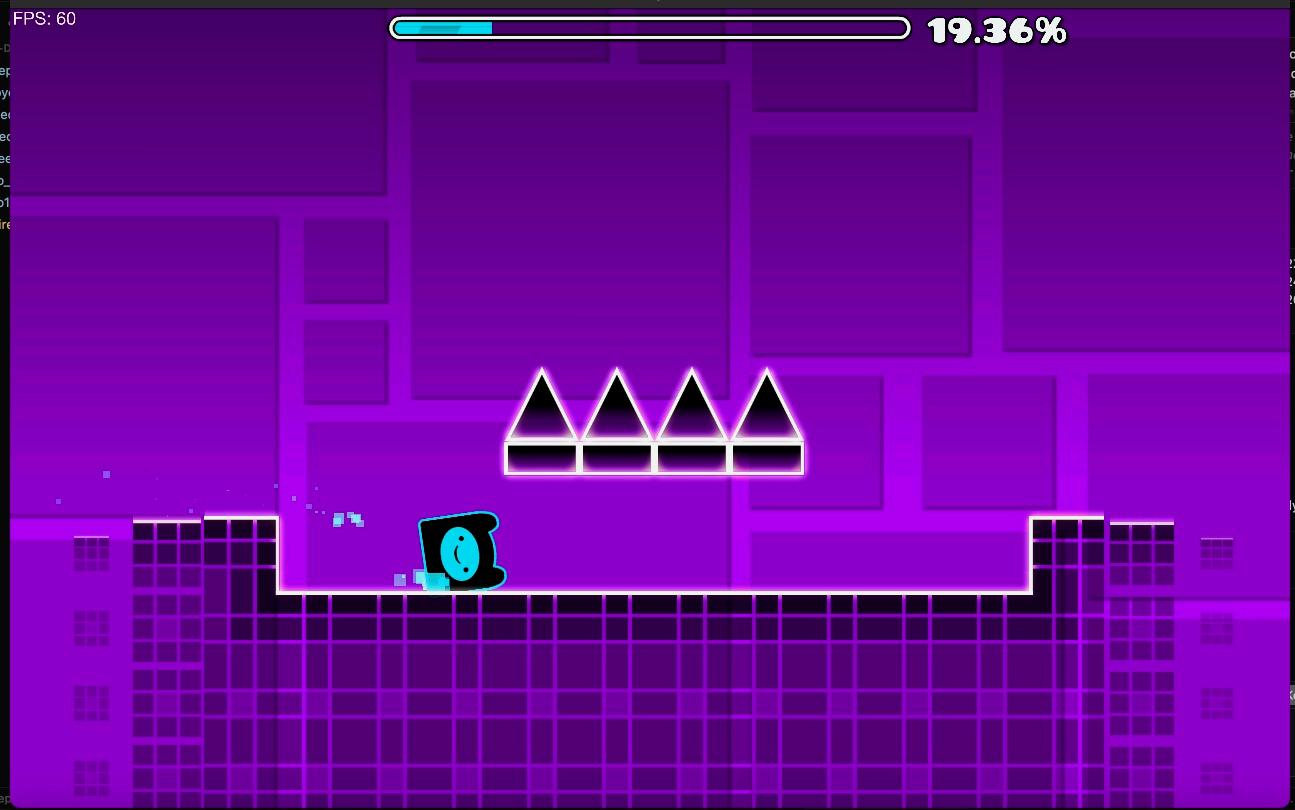block: (279, 594, 1031, 810), (1033, 517, 1179, 810), (134, 526, 274, 810)
player: (419, 511, 506, 590)
spike: (505, 369, 580, 474), (732, 369, 803, 473), (656, 370, 728, 471), (581, 370, 652, 471)
